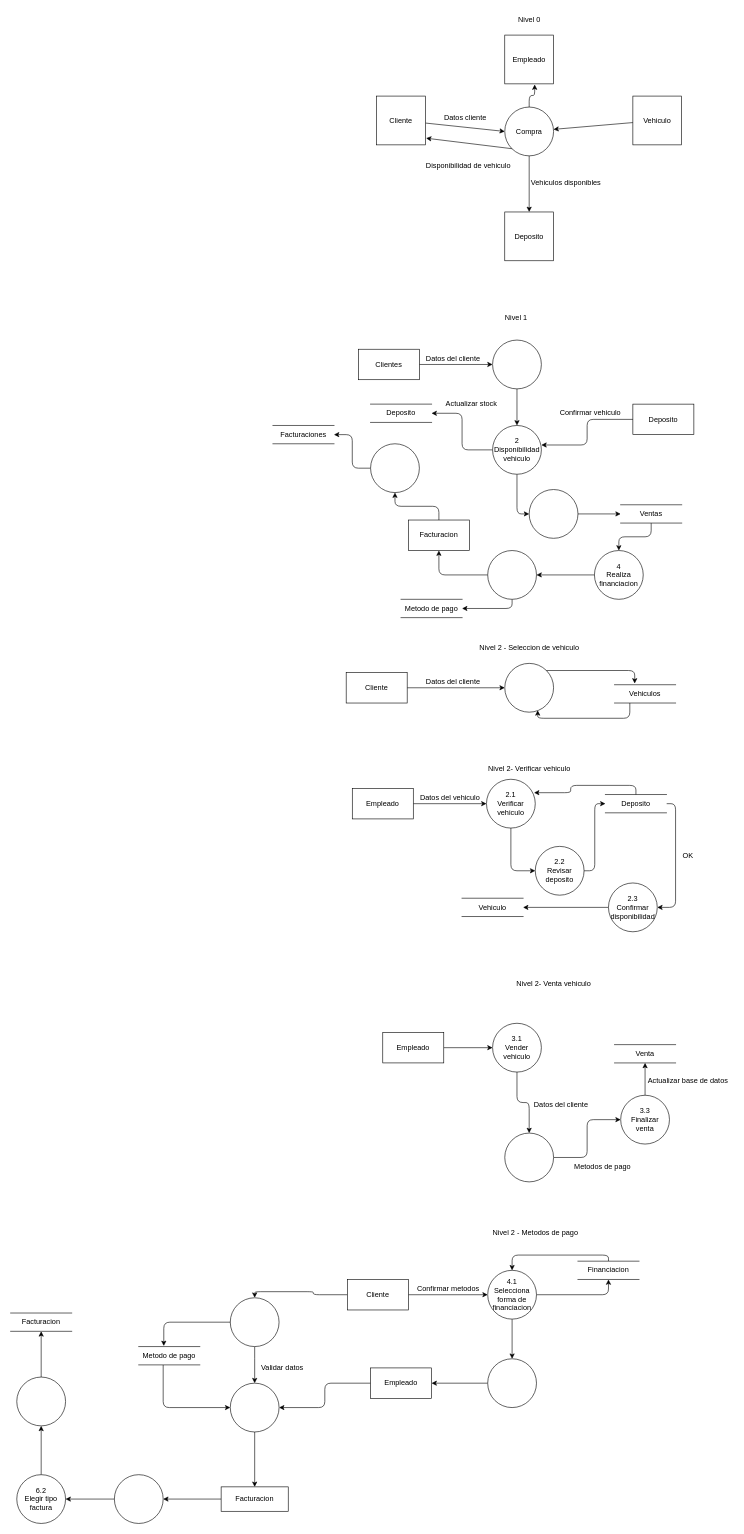
Image size: 744x1534. Some labels were removed from this diagram. Each missing label, with the centre of its shape:
1 Compra vehiculo: the point at 516,364
1.1 Seleccionar vehiculo: the point at 529,687
3 Venta vehiculo: the point at 553,513
3.2 Proceso de venta: the point at 529,1157
4.2 Validar metodo de financiar: the point at 511,1383
5 Metodo de pago: the point at 511,574
5.1 Elegir metodo de pago: the point at 254,1322
5.2 Procesar metodo pago: the point at 254,1407
6 Emitir facturacion: the point at 394,468
6.1 Emitir facturacion: the point at 138,1498
6.3 Imprimir facturacion: the point at 41,1401
